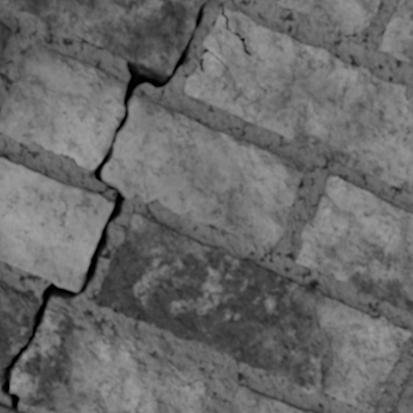brick: (94, 214, 411, 412), (185, 8, 412, 191), (296, 176, 412, 309), (1, 0, 205, 73), (0, 157, 112, 289), (379, 0, 412, 65), (232, 386, 313, 412), (393, 368, 412, 412), (0, 23, 10, 55), (0, 404, 19, 412)
broken_brick: (104, 94, 306, 249), (11, 308, 213, 412), (0, 40, 126, 170), (270, 0, 380, 45), (0, 281, 39, 371)
crack: (0, 2, 205, 410), (221, 7, 255, 56), (199, 45, 229, 72), (9, 286, 31, 296), (344, 31, 359, 38), (45, 47, 54, 52), (309, 222, 315, 229), (341, 178, 347, 182)
